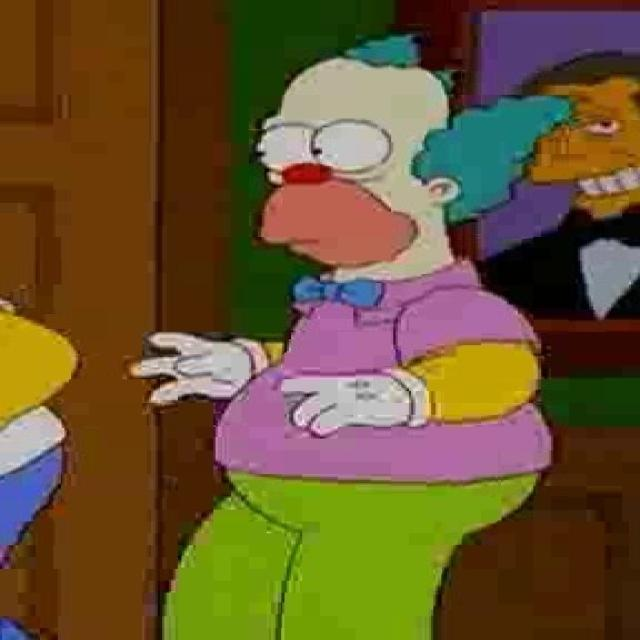Krusty the Clown: (249, 31, 578, 289)
